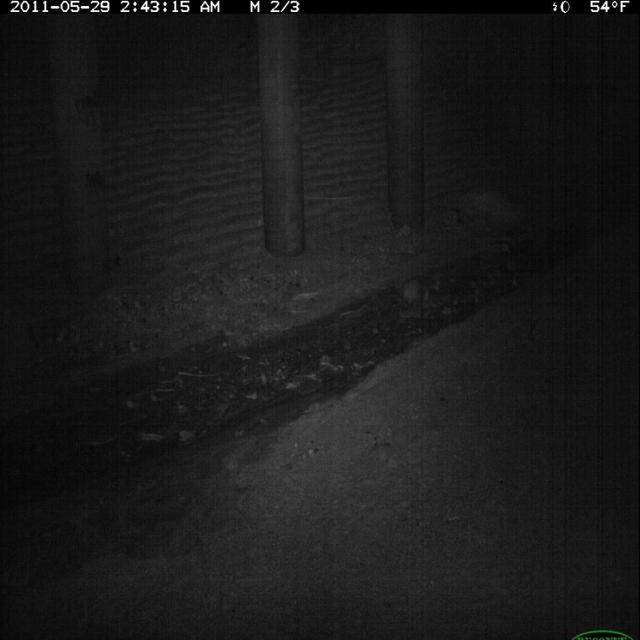opossum: (394, 272, 444, 312)
